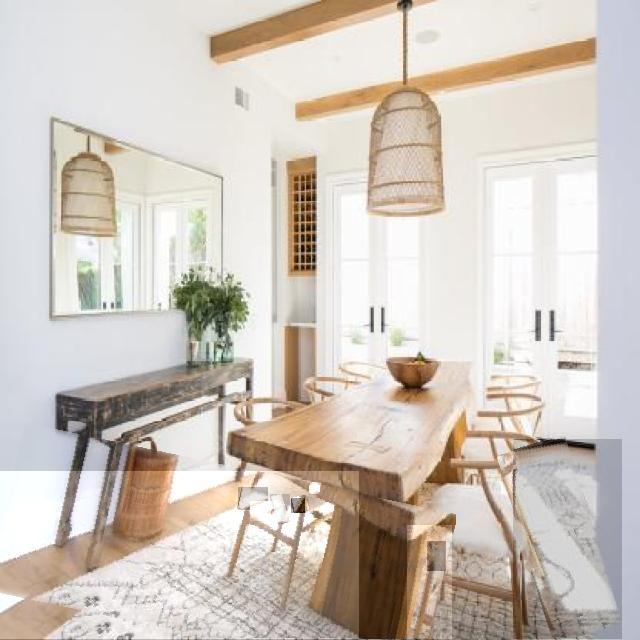floor: (0, 472, 358, 639), (513, 440, 622, 639), (408, 526, 452, 639), (448, 543, 511, 589), (238, 488, 268, 510), (270, 495, 290, 524), (427, 541, 446, 571), (251, 502, 271, 521), (292, 499, 305, 513), (310, 483, 320, 494)
